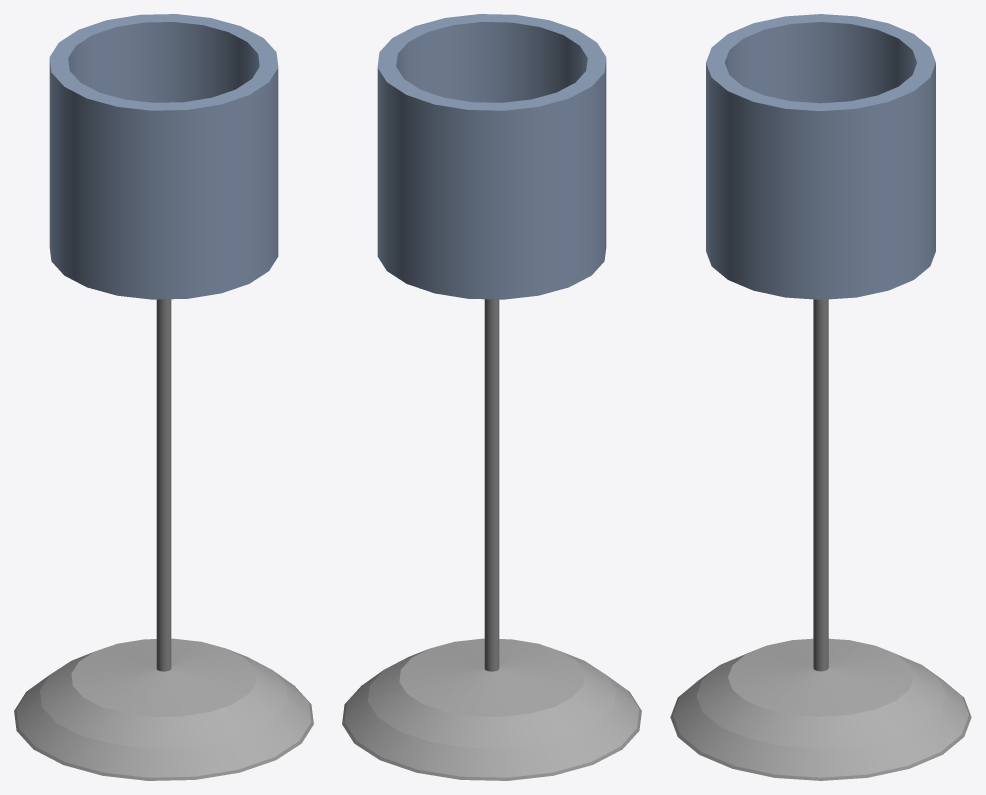
File: M_Lampara de Pie.fbx
3 renders of one model, left to right at view 1: azimuth 30°, elevation 25°; view 2: azimuth 150°, elevation 25°; view 3: azimuth 270°, elevation 25°, orthographic.
Visible parts, largest first — view 1: pCylinder4, pCylinder3; view 2: pCylinder4, pCylinder3; view 3: pCylinder4, pCylinder3.
Part boxes in pixels (x1=…): pCylinder4: x1=49, y1=14, x2=278, y2=299; pCylinder3: x1=14, y1=299, x2=313, y2=780; pCylinder4: x1=377, y1=14, x2=606, y2=299; pCylinder3: x1=342, y1=299, x2=641, y2=780; pCylinder4: x1=706, y1=14, x2=935, y2=299; pCylinder3: x1=670, y1=299, x2=971, y2=780.
Bounding box in the file's own units: 8.19 × 19.63 × 8.19.
